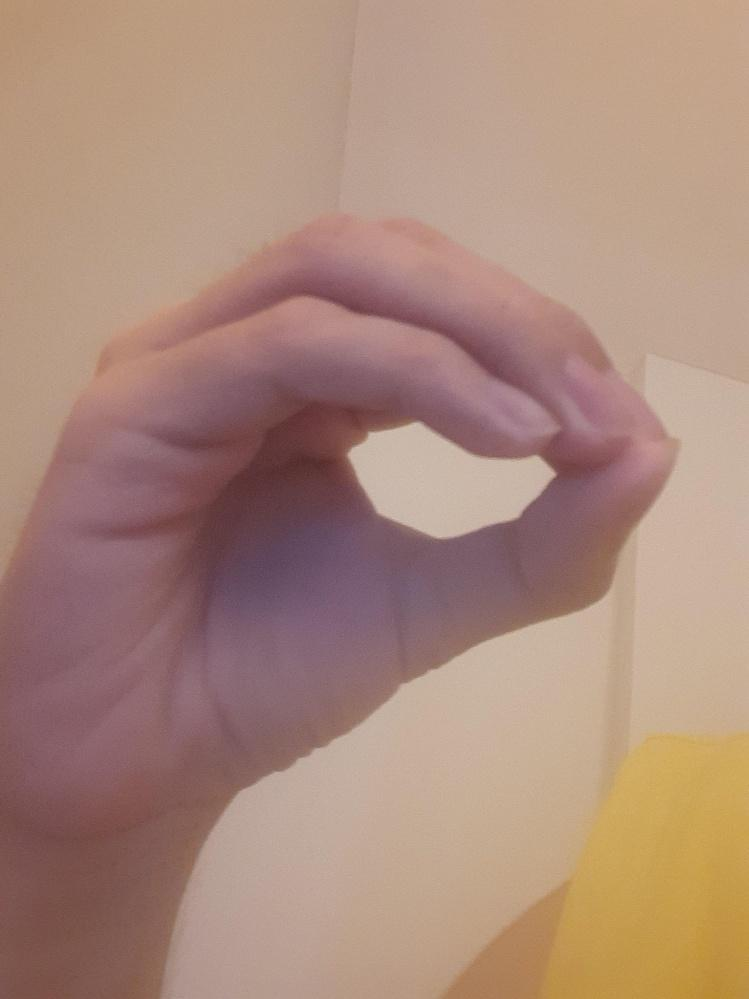o: (6, 209, 679, 808)
